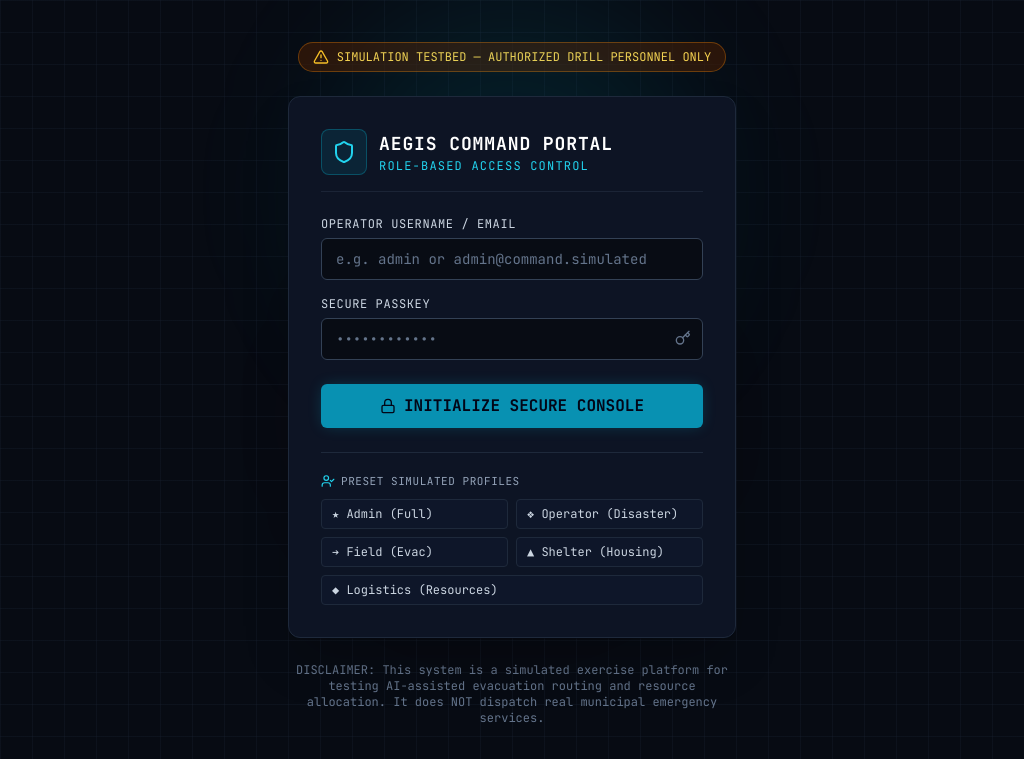
Test: Phase 3 — Authentication & RBAC › Login Page › shows success message on successful login
In the field with id "login-username": [512, 259] box [321, 238, 703, 280], type "admin"
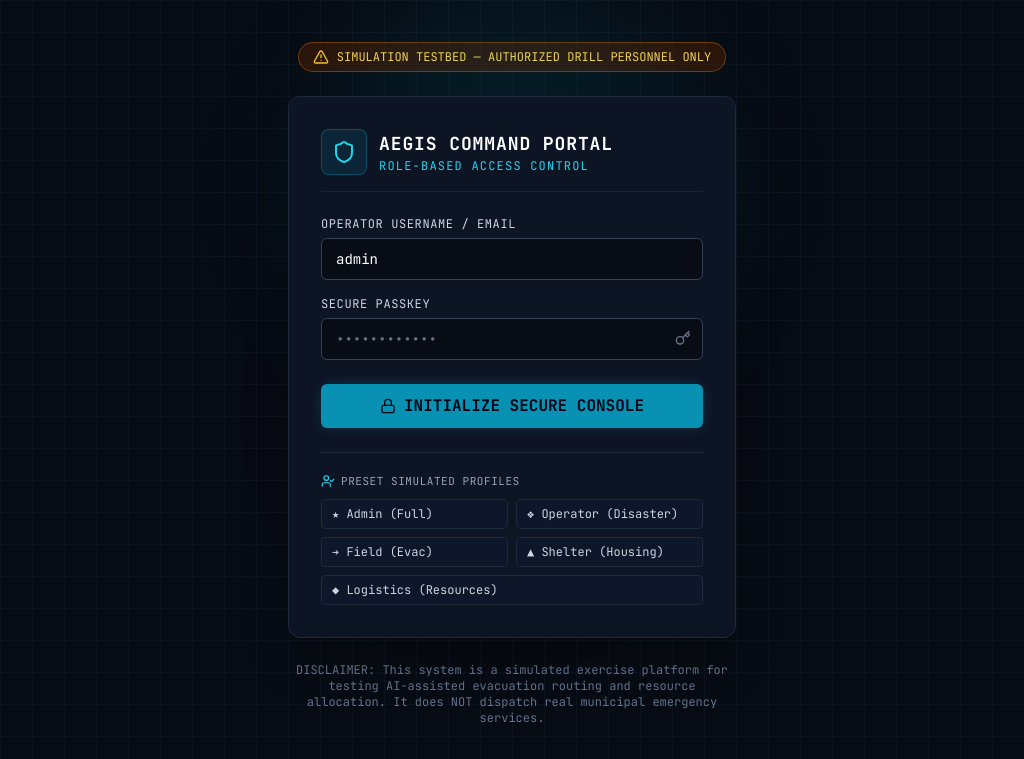
In the password field with id "login-password": [512, 339] box [321, 318, 703, 360], type "DemoAdminPass123!"
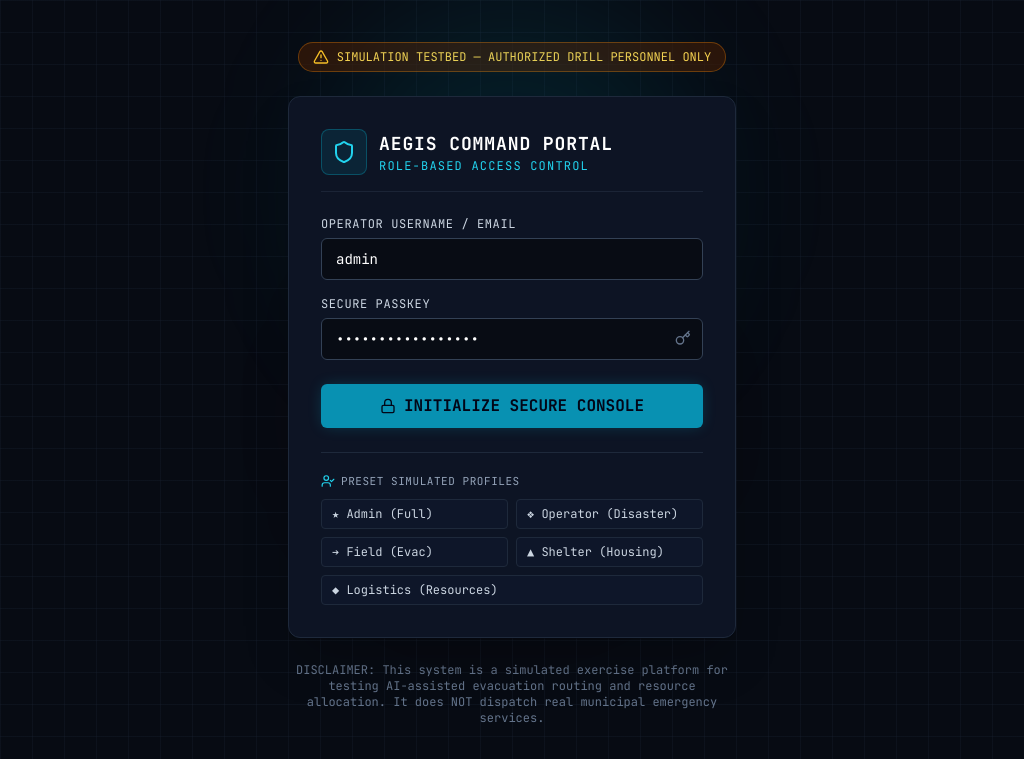
Click the button with id "login-submit-btn": [512, 406] box [321, 384, 703, 428]
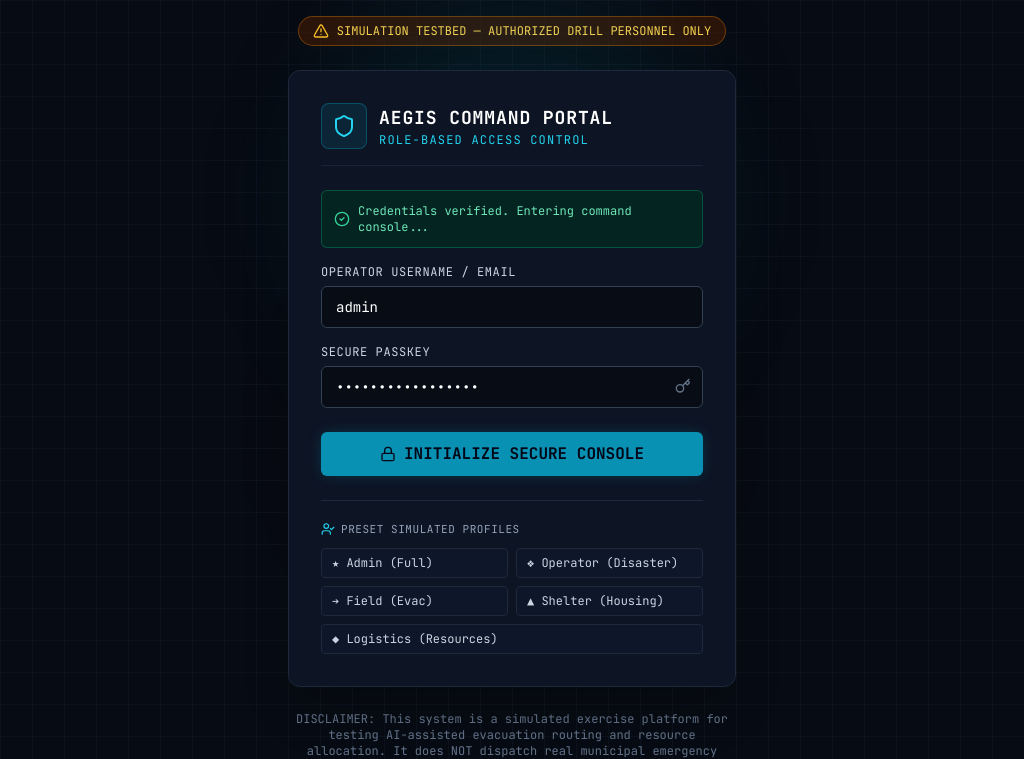
Now the text "Credentials verified. Entering command console..." is shown, box [358, 203, 632, 235]
